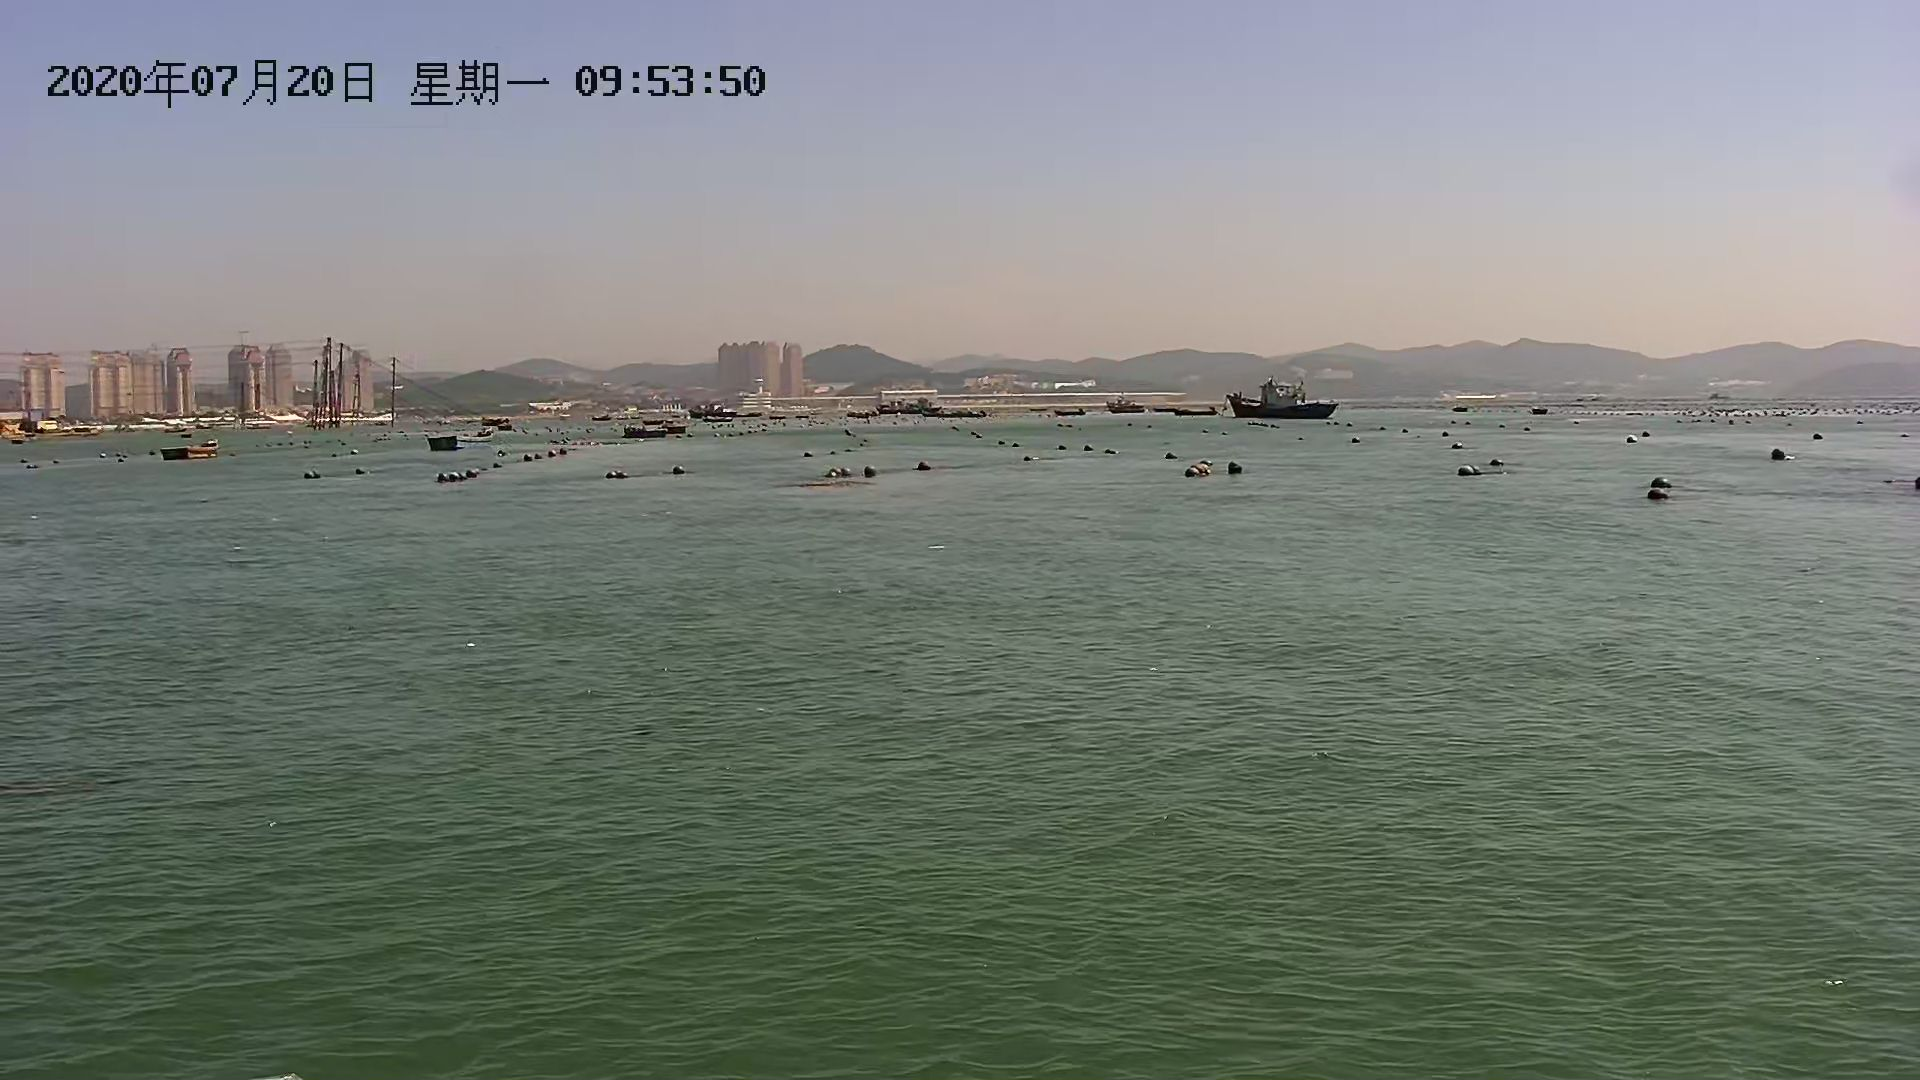ball: (516, 442, 572, 469), (1647, 475, 1676, 502), (857, 462, 887, 484), (1455, 460, 1484, 483), (605, 465, 633, 483), (1224, 458, 1247, 477), (670, 459, 690, 483), (1767, 446, 1789, 460), (436, 472, 458, 484)
boat: (851, 397, 993, 429), (609, 410, 721, 448), (691, 404, 811, 425), (156, 436, 225, 465), (1106, 388, 1153, 415), (1172, 400, 1215, 421), (1048, 404, 1092, 419)
mast: (382, 349, 404, 436)
ship: (1228, 380, 1342, 423)
